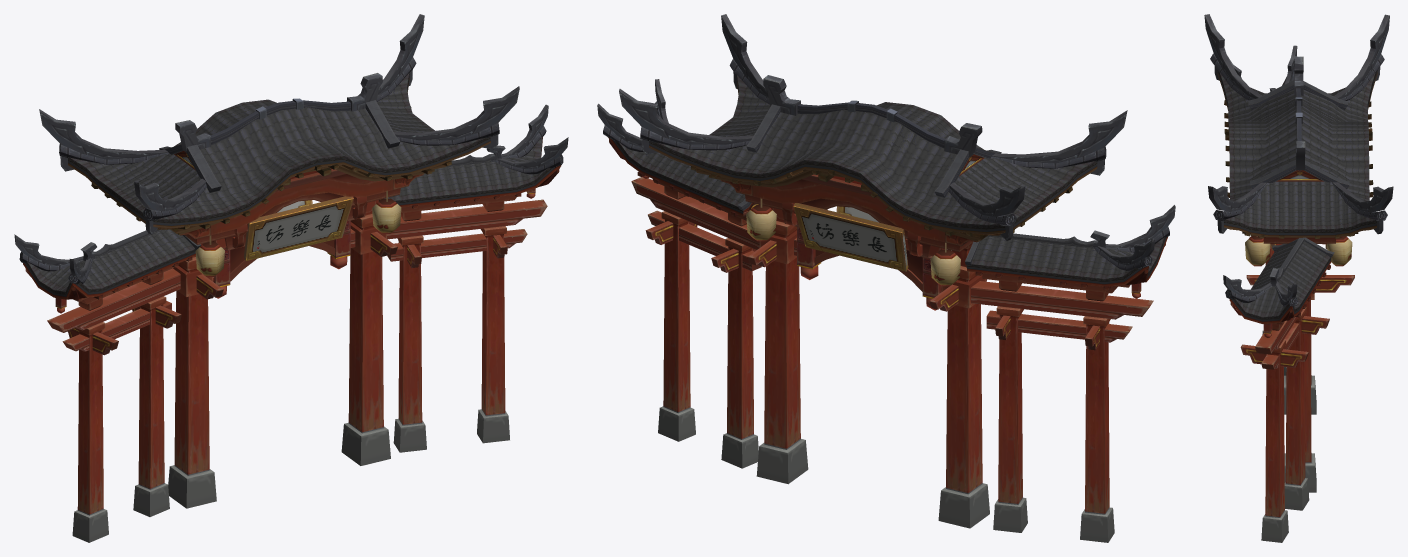
Rendered from ZYbui_CLF_paifang01.FBX.
3 renders of one model, left to right at view 1: azimuth 30°, elevation 25°; view 2: azimuth 150°, elevation 25°; view 3: azimuth 270°, elevation 25°, orthographic. The views are drawn at different scales.
Parts seen in each view (by area): view 1: ZYbui_CLF_paifang01; view 2: ZYbui_CLF_paifang01; view 3: ZYbui_CLF_paifang01.
Part boxes in pixels (left/top/right/bottom): ZYbui_CLF_paifang01: left=14, top=14, right=568, bottom=542; ZYbui_CLF_paifang01: left=597, top=14, right=1175, bottom=542; ZYbui_CLF_paifang01: left=1204, top=14, right=1393, bottom=542.
Size of the model in its own units: 1918 by 1300 by 644.
